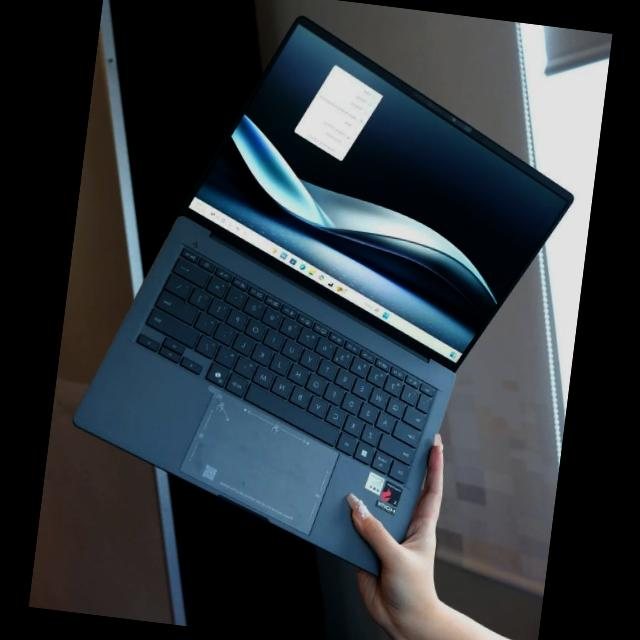laptop: (74, 1, 593, 582)
